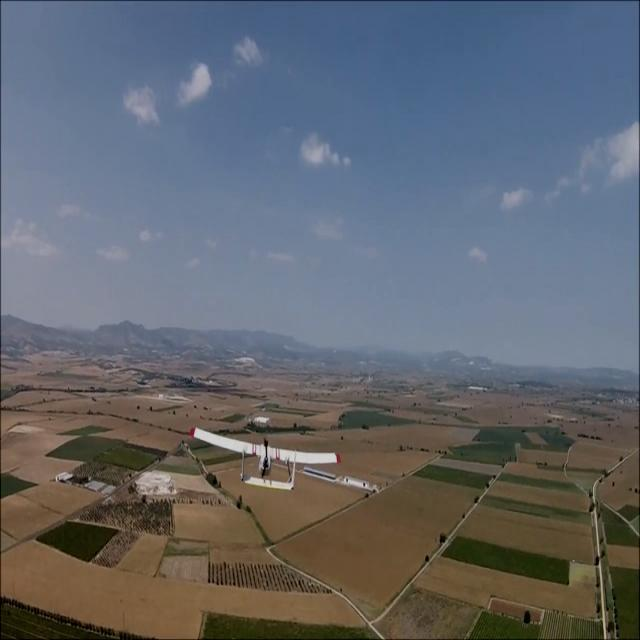iha: (201, 451, 341, 457)
